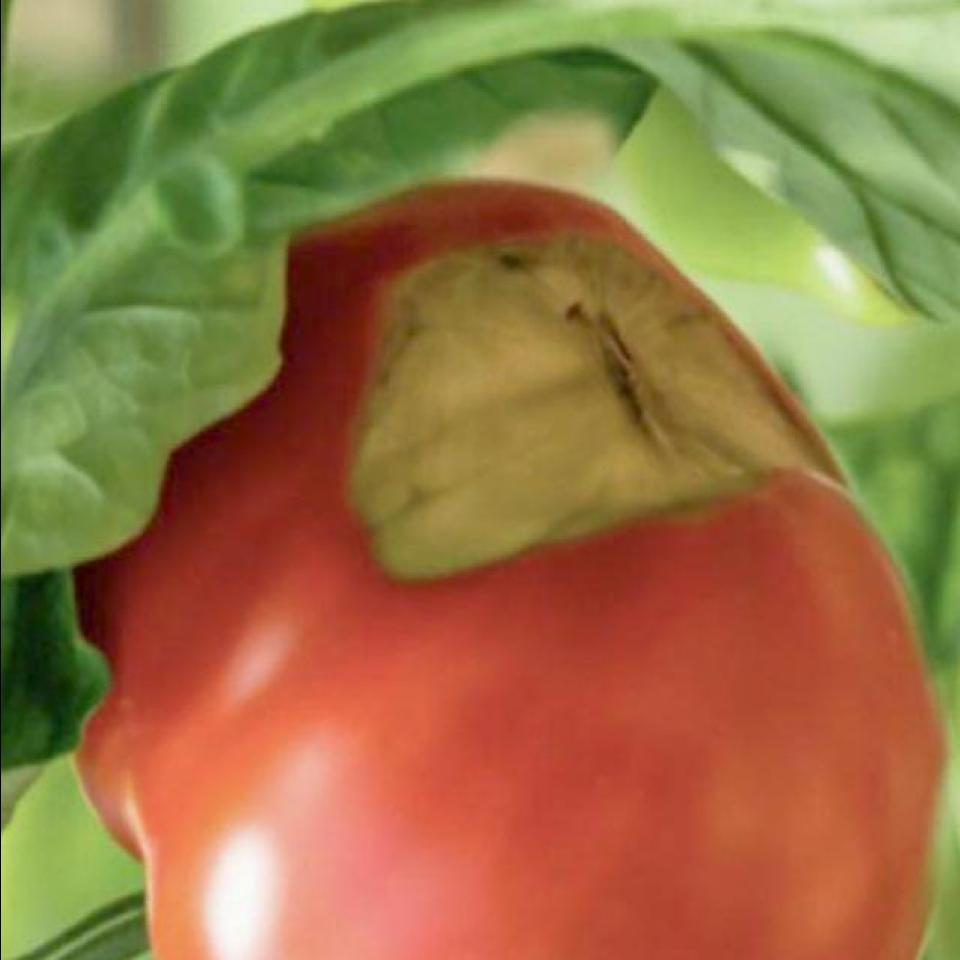Blossom_end_rot: (298, 207, 950, 618)
